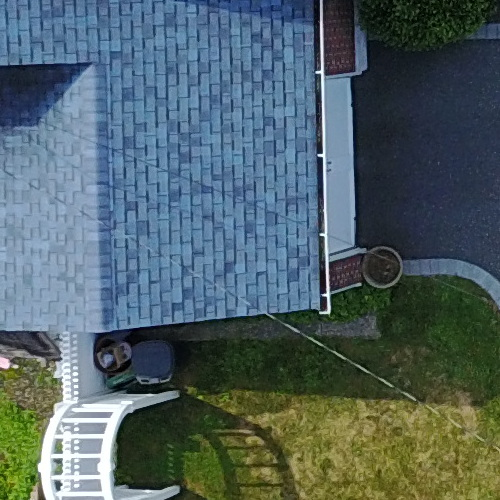container: (360, 240, 412, 297)
trash bin: (123, 326, 185, 384)
